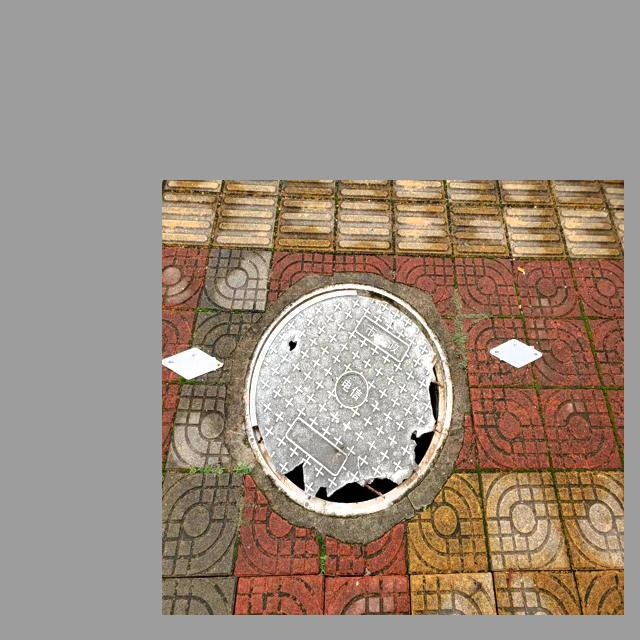broke: (242, 283, 453, 519)
